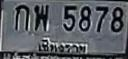5: (63, 5, 76, 30)
7: (95, 6, 107, 32)
8: (110, 6, 123, 31), (78, 5, 90, 31)
A01: (14, 4, 29, 30)
A30: (34, 4, 48, 30)
CRI: (35, 37, 89, 55)
